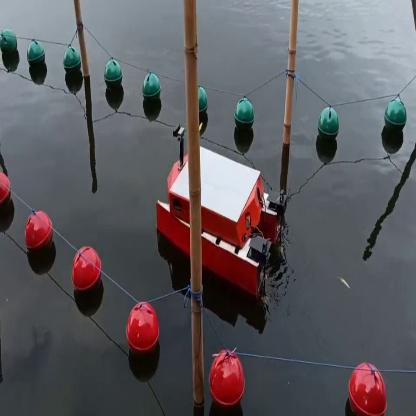green_buoy: (314, 104, 343, 139), (381, 99, 409, 132), (59, 45, 84, 76), (232, 97, 257, 127), (103, 58, 125, 89), (141, 71, 162, 101), (28, 40, 45, 68), (1, 29, 17, 57), (197, 85, 208, 116)
red_buoy: (205, 347, 250, 408), (344, 361, 392, 415), (124, 300, 161, 352), (68, 245, 104, 294), (20, 208, 57, 254), (1, 171, 10, 210)
